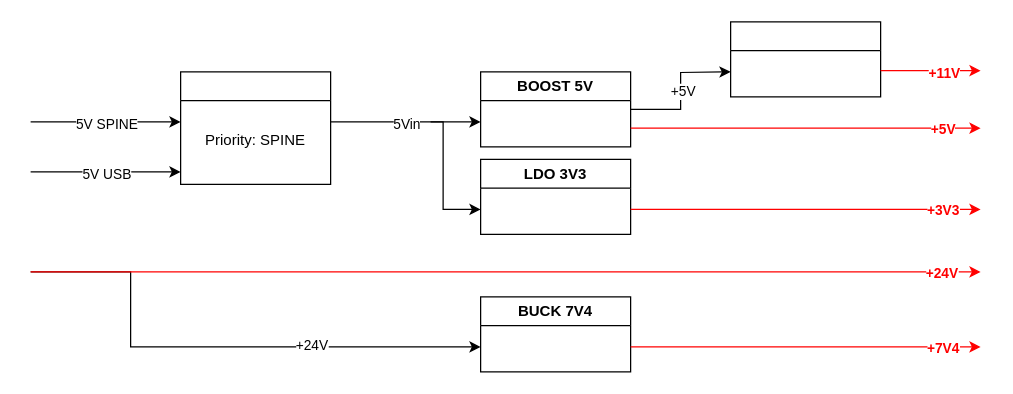
This 1013x394 diagram has some shape labels left out. Here are the shapes that lost their labels. From the top down, the box of each, then its label:
(729, 21, 881, 97): BOOST 11V
(179, 71, 331, 184): Power MUX
